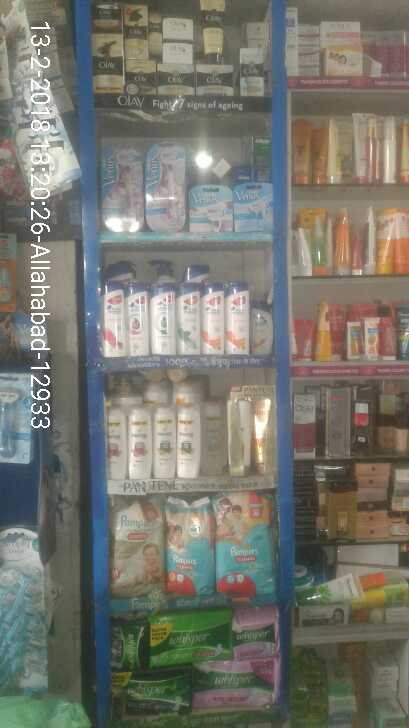venus: (104, 149, 146, 228), (147, 143, 183, 229), (189, 188, 233, 234), (233, 184, 273, 234)
